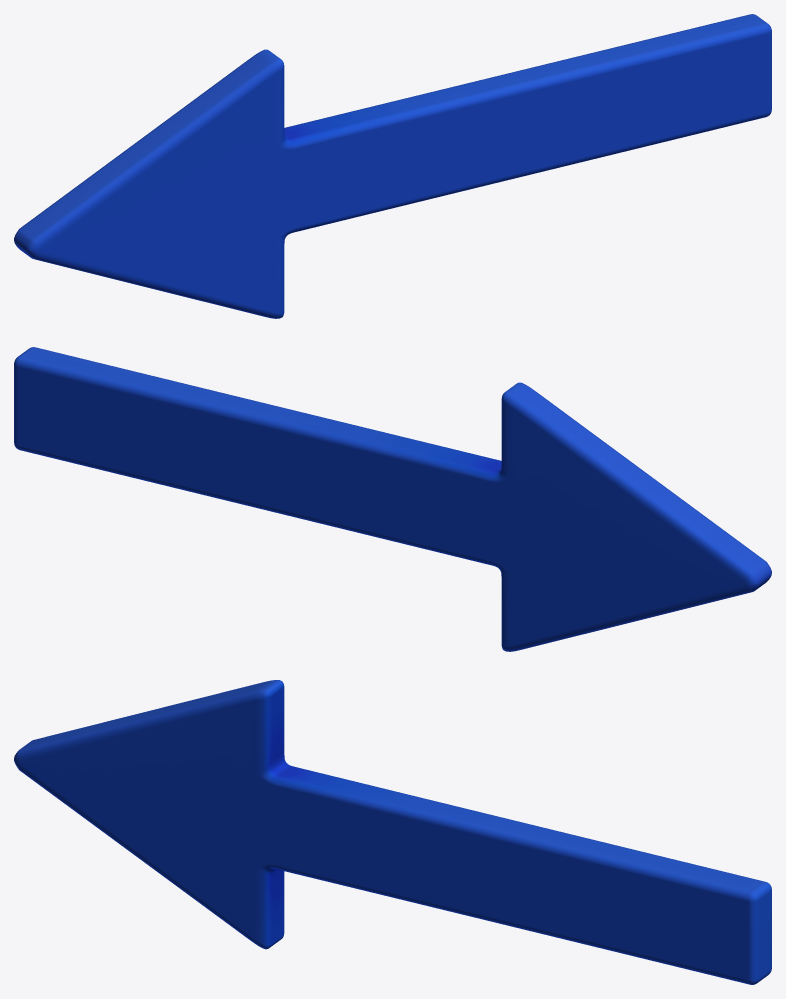
File: next.glb
3 renders of one model, top to bottom at view 1: azimuth 30°, elevation 25°; view 2: azimuth 150°, elevation 25°; view 3: azimuth 330°, elevation 25°, orthographic.
Parts seen in each view (by area): view 1: node_id30; view 2: node_id30; view 3: node_id30.
Boxes of the visible parts, <box> form: node_id30: <box>14,14,771,318</box>; node_id30: <box>14,347,771,651</box>; node_id30: <box>14,680,771,984</box>.
Size of the model in its own units: 0.512 by 0.1708 by 0.024.
Materials: 1 (1 with a texture image).
